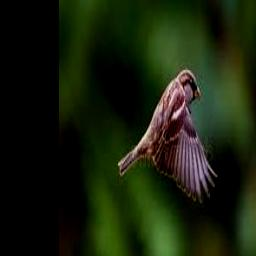Sparrow: (119, 68, 218, 203)
